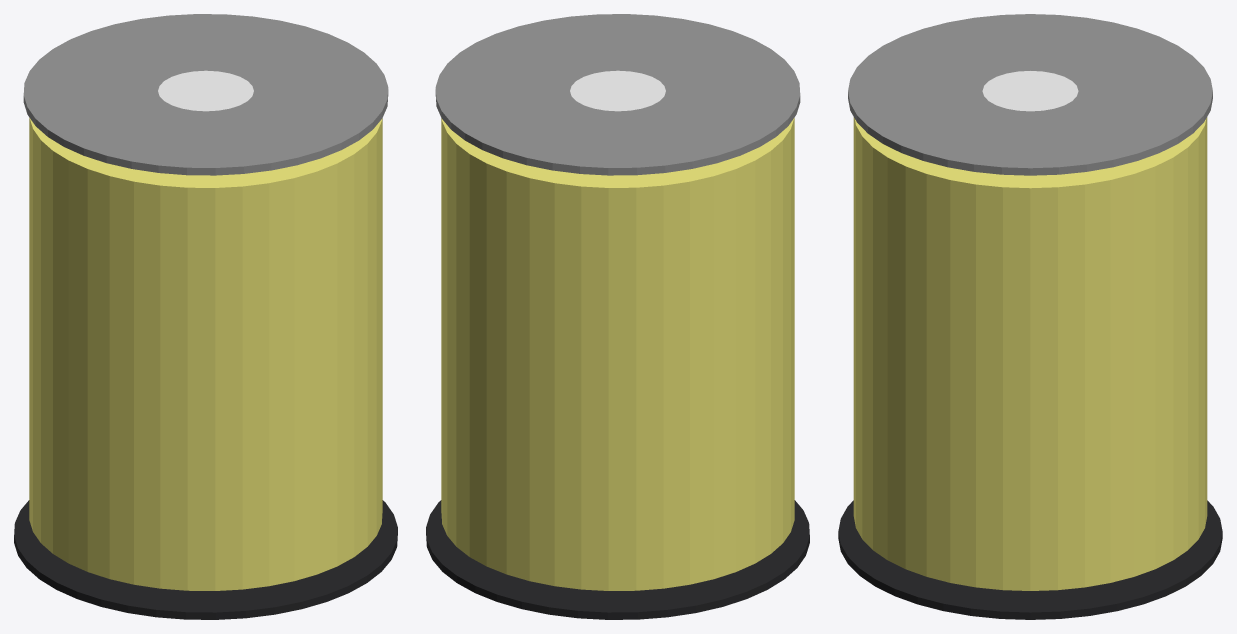
Rendered from Fiber_20.glb.
3 views of the same model, side by side, from view 1: azimuth 30°, elevation 25°; view 2: azimuth 150°, elevation 25°; view 3: azimuth 270°, elevation 25° (orthographic).
Visible parts, largest first — view 1: Winding.002, FlangeB.002, FlangeA.002, Fiber_20; view 2: Winding.002, FlangeB.002, FlangeA.002, Fiber_20; view 3: Winding.002, FlangeB.002, FlangeA.002, Fiber_20.
Part boxes in pixels (bbox=[...]): Winding.002: bbox=[29, 118, 382, 590]; FlangeB.002: bbox=[23, 14, 388, 175]; FlangeA.002: bbox=[14, 500, 397, 619]; Fiber_20: bbox=[158, 70, 253, 111]; Winding.002: bbox=[441, 118, 794, 590]; FlangeB.002: bbox=[435, 14, 800, 175]; FlangeA.002: bbox=[426, 500, 809, 619]; Fiber_20: bbox=[570, 70, 665, 111]; Winding.002: bbox=[853, 117, 1207, 590]; FlangeB.002: bbox=[848, 14, 1212, 175]; FlangeA.002: bbox=[838, 500, 1222, 619]; Fiber_20: bbox=[982, 71, 1078, 111].
Bounding box in the file's own units: 0.14 × 0.18 × 0.14.
